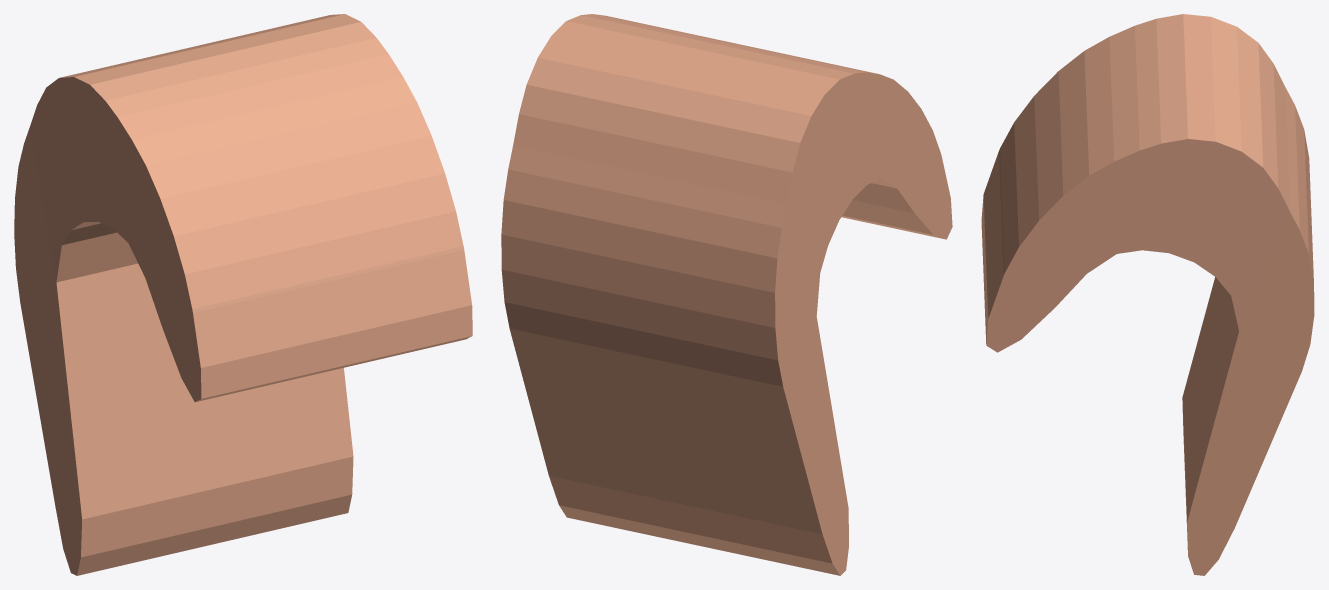
File: manoDer.obj
3 renders of one model, left to right at view 1: azimuth 30°, elevation 25°; view 2: azimuth 150°, elevation 25°; view 3: azimuth 270°, elevation 25°, orthographic. The views are drawn at different scales.
Visible parts, largest first — view 1: manoDerElRey_Mesh; view 2: manoDerElRey_Mesh; view 3: manoDerElRey_Mesh.
Part boxes in pixels (x1,y1,x2,y2): manoDerElRey_Mesh: (14, 14, 472, 575); manoDerElRey_Mesh: (501, 14, 952, 575); manoDerElRey_Mesh: (981, 14, 1314, 575).
Size of the model in its own units: 0.5192 by 0.8688 by 0.5872.
1 material, 1 textured.
